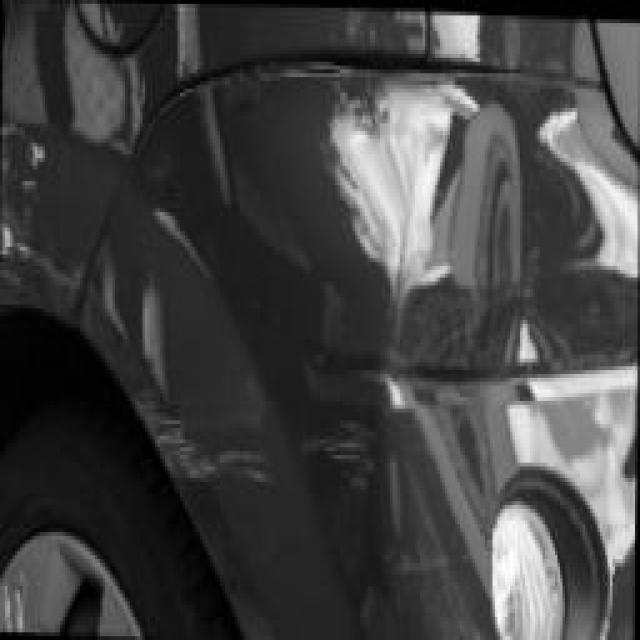Bumper: (130, 62, 482, 569)
